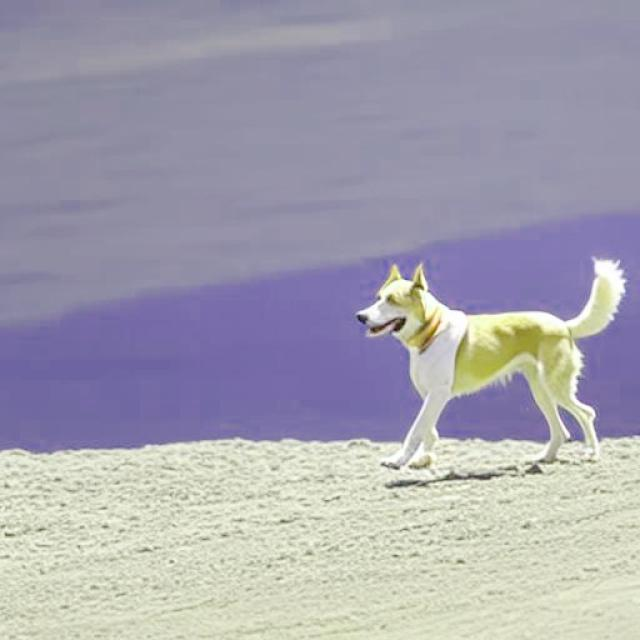Dog: (354, 258, 626, 470)
